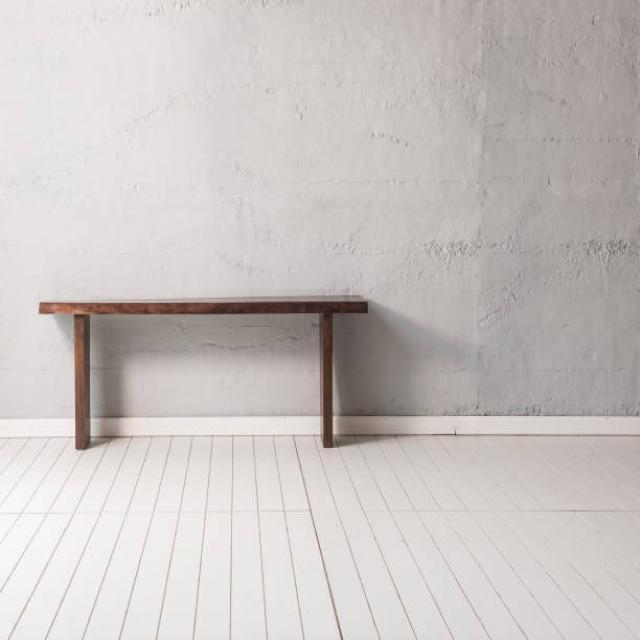table: (38, 294, 368, 451)
